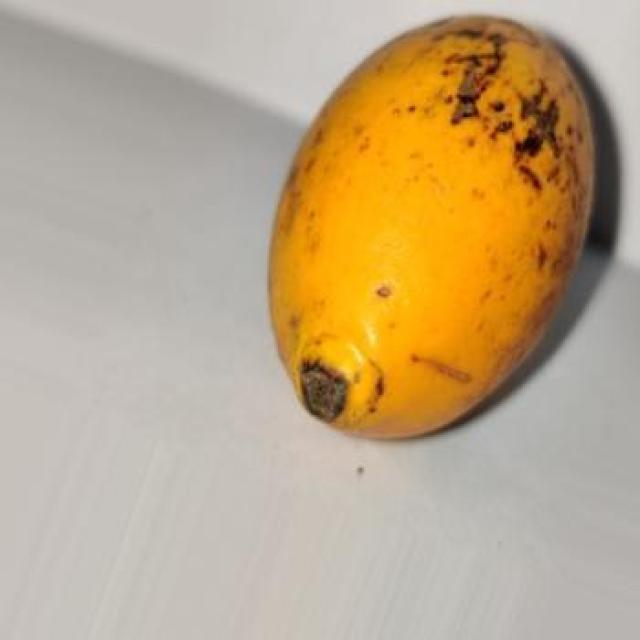good: (267, 15, 598, 444)
